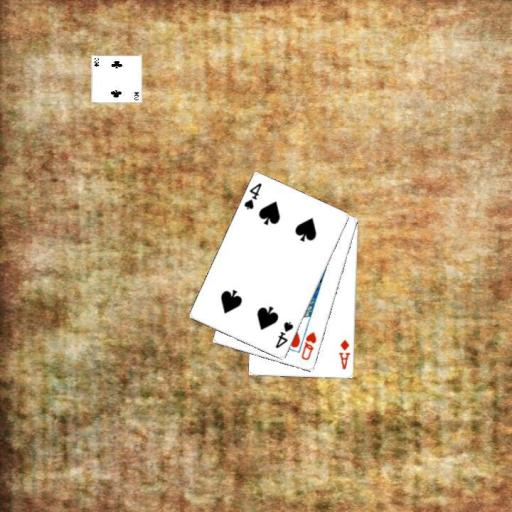4S: (272, 318, 295, 350), (241, 180, 263, 211)
AD: (336, 337, 352, 371)
QH: (298, 329, 318, 362)
